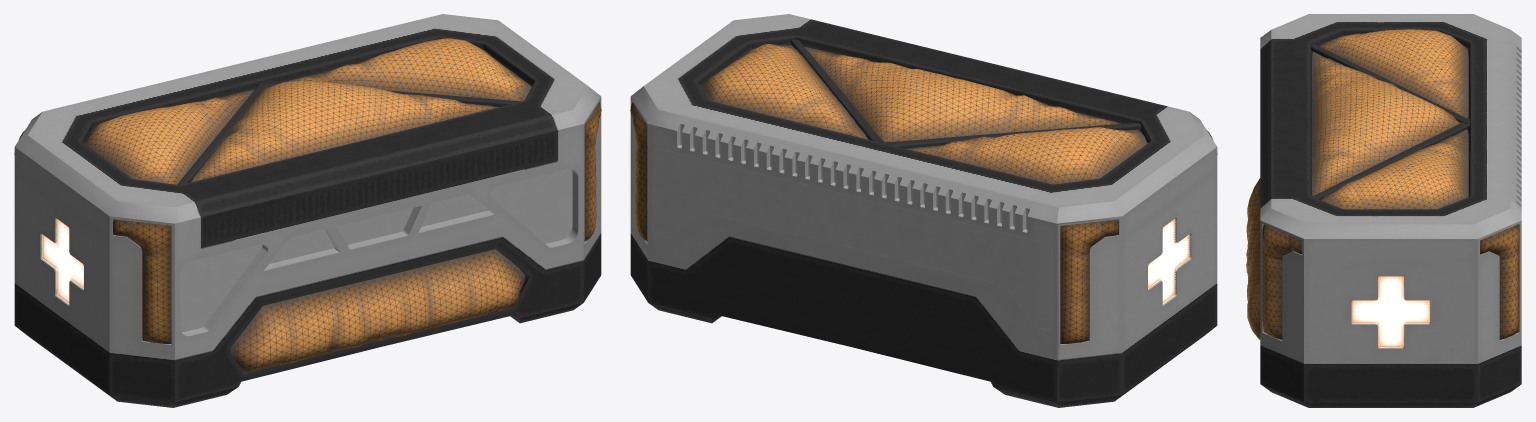
File: gelecekçağ_engel_1fbx.fbx
3 views of the same model, side by side, from view 1: azimuth 30°, elevation 25°; view 2: azimuth 150°, elevation 25°; view 3: azimuth 270°, elevation 25° (orthographic). The views are drawn at different scales.
Parts seen in each view (by area): view 1: Box_low; view 2: Box_low; view 3: Box_low.
Part boxes in pixels (x1,y1,x2,y2): Box_low: (14, 14, 601, 407); Box_low: (630, 14, 1217, 407); Box_low: (1246, 14, 1521, 407).
Bounding box in the file's own units: 398 × 173 × 211.
